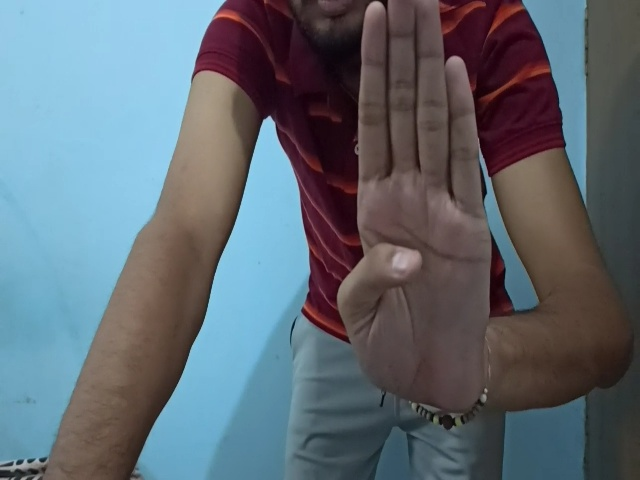B: (336, 2, 496, 405)
